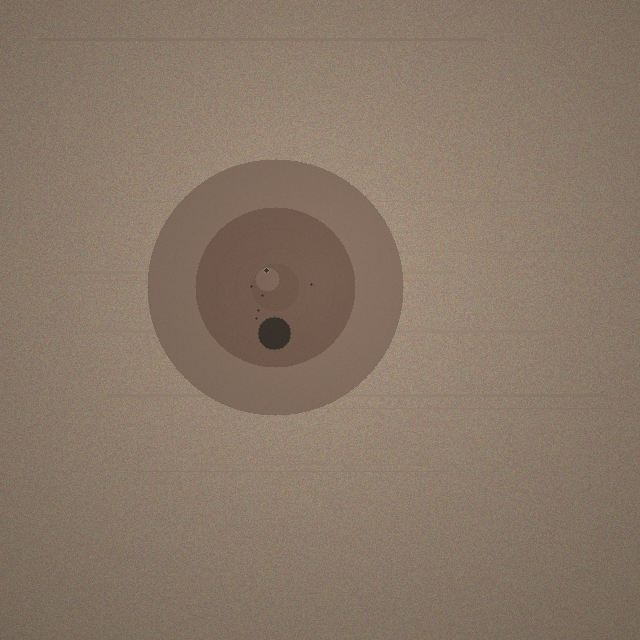shrinkage: (147, 159, 403, 415)
